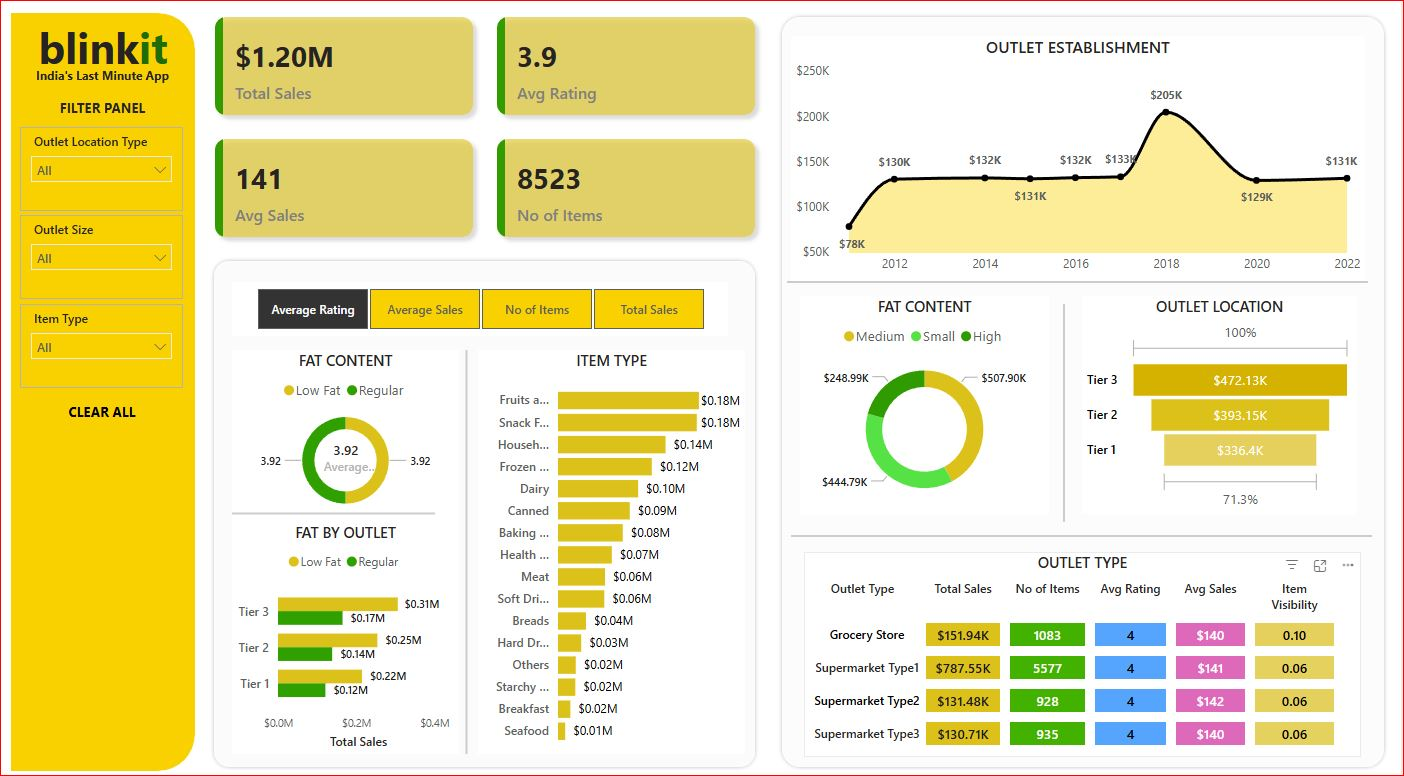

This screenshot's page, from the dashboard's own definition file:
{"tool":"powerbi","page":{"name":"Page 2","canvas":[1400,800],"ordinal":0},"visuals":[{"type":"shape","box":[209,257,549,514],"z":0},{"type":"clusteredBarChart","title":" ITEM TYPE","fields":{"Category":["BlinkIT Grocery Data.Item Type"],"Y":["BlinkIT Grocery Data.Total Sales"]},"box":[477,350,267,404],"z":1000},{"type":"shape","box":[10,13,184,758],"z":2000},{"type":"textbox","box":[22,13,160,81],"z":3000},{"type":"textbox","box":[0,61,203,33],"z":4000},{"type":"cardVisual","fields":{"Data":["BlinkIT Grocery Data.Total Sales","BlinkIT Grocery Data.Average Rating","BlinkIT Grocery Data.Average Sales","BlinkIT Grocery Data.No of Items"]},"box":[197,0,574,254],"z":5000},{"type":"slicer","fields":{"Values":["Parameter.Parameter"]},"box":[231,282,496,54],"z":6000},{"type":"donutChart","title":"FAT CONTENT","fields":{"Y":["BlinkIT Grocery Data.Avg Rating"],"Category":["BlinkIT Grocery Data.Item Fat Content"]},"box":[231,350,227,172],"z":7000},{"type":"clusteredBarChart","title":"FAT BY OUTLET","fields":{"Series":["BlinkIT Grocery Data.Item Fat Content"],"Category":["BlinkIT Grocery Data.Outlet Location Type"],"Y":["BlinkIT Grocery Data.Total Sales"]},"box":[231,522,227,232],"z":8000},{"type":"shape","box":[458,350,15,404],"z":9000},{"type":"shape","box":[231,505,203,17],"z":10000},{"type":"cardVisual","fields":{"Data":["BlinkIT Grocery Data.Avg Rating"]},"box":[299,424,92,65],"z":11000},{"type":"shape","box":[777,13,610,758],"z":12000},{"type":"lineChart","title":" OUTLET ESTABLISHMENT","fields":{"Category":["BlinkIT Grocery Data.Outlet Establishment Year"],"Y":["BlinkIT Grocery Data.Total Sales"]},"box":[790,36,574,246],"z":13000},{"type":"shape","box":[786,268,581,28],"z":14000},{"type":"donutChart","title":"FAT CONTENT","fields":{"Y":["BlinkIT Grocery Data.Total Sales"],"Category":["BlinkIT Grocery Data.Outlet Size"]},"box":[799,296,249,218],"z":15000},{"type":"funnel","title":" OUTLET LOCATION","fields":{"Category":["BlinkIT Grocery Data.Outlet Location Type"],"Y":["BlinkIT Grocery Data.Total Sales"]},"box":[1081,296,275,218],"z":16000},{"type":"shape","box":[790,522,581,28],"z":17000},{"type":"shape","box":[1057,304,12,218],"z":18000},{"type":"pivotTable","title":"OUTLET TYPE","fields":{"Rows":["BlinkIT Grocery Data.Outlet Type"],"Values":["BlinkIT Grocery Data.Total Sales","BlinkIT Grocery Data.No of Items","BlinkIT Grocery Data.Avg Rating","BlinkIT Grocery Data.Avg Sales","Avg(BlinkIT Grocery Data.Item Visibility)"]},"box":[803,552,557,205],"z":19000},{"type":"slicer","fields":{"Values":["BlinkIT Grocery Data.Outlet Location Type"]},"box":[19,127,163,84],"z":20000},{"type":"slicer","fields":{"Values":["BlinkIT Grocery Data.Outlet Size"]},"box":[19,215,163,84],"z":21000},{"type":"slicer","fields":{"Values":["BlinkIT Grocery Data.Item Type"]},"box":[19,304,163,84],"z":22000},{"type":"textbox","box":[47,94,109,27],"z":23000},{"type":"actionButton","box":[9,386,184,50],"z":24000}]}

Visuals, with their boxes on the page's 1400x800 design canvas (x1, y1, x2, y2). These are canvas units, not pixel positions in the 1404x776 screenshot, which may show the page scaled, cropped or inside an application window:
shape: box(209, 257, 758, 771)
" ITEM TYPE" clusteredBarChart: box(477, 350, 744, 754)
shape: box(10, 13, 194, 771)
textbox: box(22, 13, 182, 94)
textbox: box(0, 61, 203, 94)
cardVisual - BlinkIT Grocery Data.Total Sales x BlinkIT Grocery Data.Average Rating: box(197, 0, 771, 254)
slicer - Parameter.Parameter: box(231, 282, 727, 336)
"FAT CONTENT" donutChart: box(231, 350, 458, 522)
"FAT BY OUTLET" clusteredBarChart: box(231, 522, 458, 754)
shape: box(458, 350, 473, 754)
shape: box(231, 505, 434, 522)
cardVisual - BlinkIT Grocery Data.Avg Rating: box(299, 424, 391, 489)
shape: box(777, 13, 1387, 771)
" OUTLET ESTABLISHMENT" lineChart: box(790, 36, 1364, 282)
shape: box(786, 268, 1367, 296)
"FAT CONTENT" donutChart: box(799, 296, 1048, 514)
" OUTLET LOCATION" funnel: box(1081, 296, 1356, 514)
shape: box(790, 522, 1371, 550)
shape: box(1057, 304, 1069, 522)
"OUTLET TYPE" pivotTable: box(803, 552, 1360, 757)
slicer - BlinkIT Grocery Data.Outlet Location Type: box(19, 127, 182, 211)
slicer - BlinkIT Grocery Data.Outlet Size: box(19, 215, 182, 299)
slicer - BlinkIT Grocery Data.Item Type: box(19, 304, 182, 388)
textbox: box(47, 94, 156, 121)
actionButton: box(9, 386, 193, 436)
